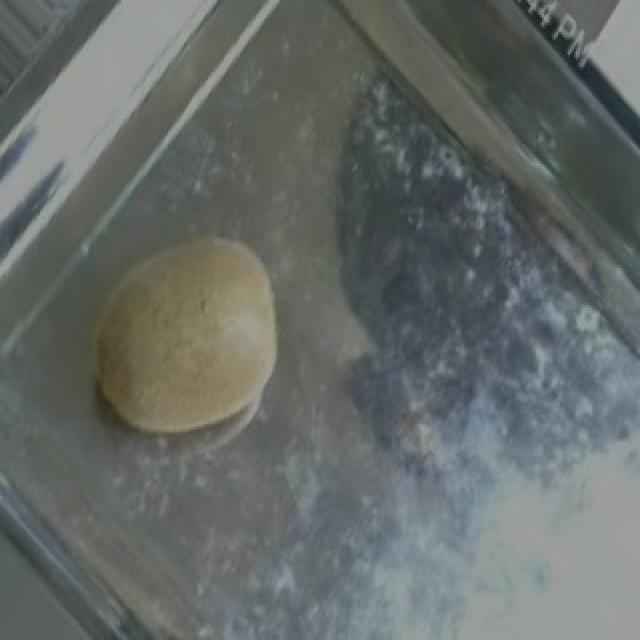Fruit: (52, 201, 306, 466)
